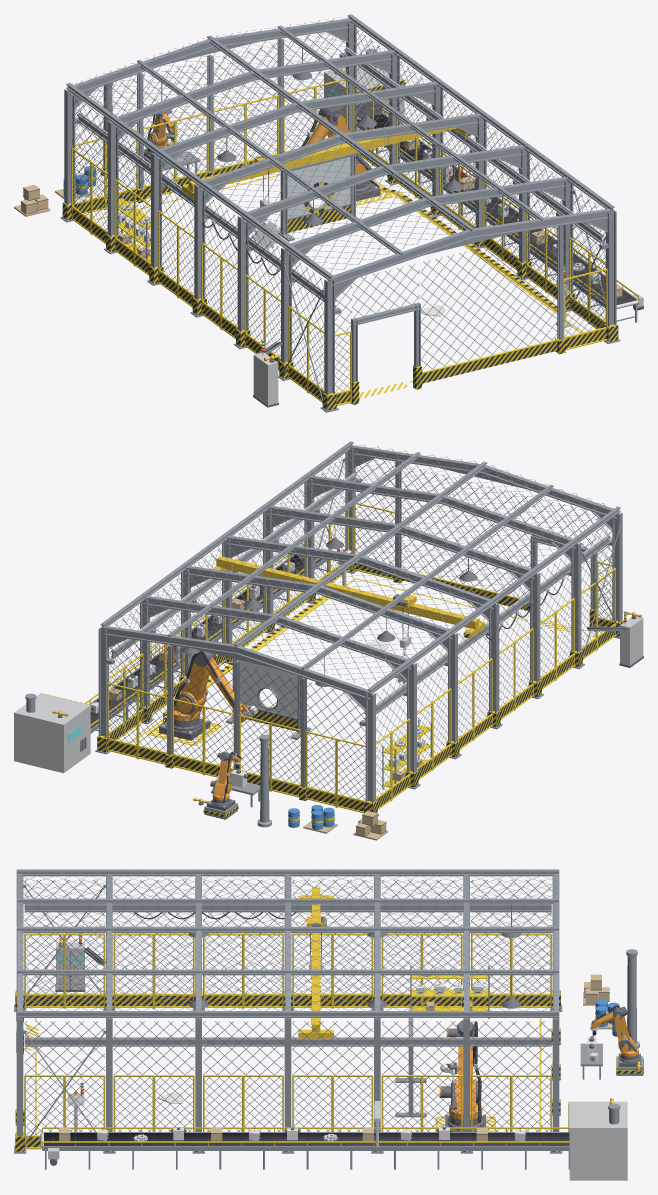
The model's file is RoboFactoryCage.fbx.
The picture shows the model from 3 angles, top to bottom: view 1: azimuth 30°, elevation 25°; view 2: azimuth 150°, elevation 25°; view 3: azimuth 270°, elevation 25°; orthographic projection. The views are drawn at different scales.
Parts seen in each view (by area): view 1: RoboSteel, RoboMesh, RoboFence, RoboHazardYellow, RoboHazardBlack, RoboJoints, RoboCables, RoboPanels, RoboCrane, RoboScreenPanel, RoboChrome, RoboCrates (+2 smaller); view 2: RoboSteel, RoboMesh, RoboFence, RoboHazardYellow, RoboPanels, RoboHazardBlack, RoboJoints, RoboCrane, RoboCables, RoboArm, RoboScreenPanel, RoboChrome (+3 smaller); view 3: RoboSteel, RoboMesh, RoboFence, RoboPanels, RoboCables, RoboHazardYellow, RoboHazardBlack, RoboJoints, RoboCrane, RoboArm, RoboChrome, RoboParts (+1 smaller).
Part boxes in pixels (x1,y1,x2,y2): RoboSteel: (60, 14, 639, 412); RoboMesh: (72, 16, 610, 392); RoboFence: (71, 79, 639, 405); RoboHazardYellow: (63, 80, 617, 409); RoboHazardBlack: (62, 80, 618, 410); RoboJoints: (20, 72, 643, 407); RoboCables: (145, 108, 635, 352); RoboPanels: (253, 65, 643, 405); RoboCrane: (182, 115, 465, 199); RoboScreenPanel: (287, 157, 350, 218); RoboChrome: (62, 47, 638, 410); RoboCrates: (14, 138, 622, 297); RoboSteel: (25, 441, 624, 827); RoboMesh: (106, 442, 616, 799); RoboFence: (84, 502, 615, 813); RoboHazardYellow: (41, 551, 623, 823); RoboPanels: (14, 549, 643, 773); RoboHazardBlack: (65, 563, 623, 817); RoboJoints: (58, 538, 643, 836); RoboCrane: (212, 556, 484, 638); RoboCables: (90, 555, 625, 802); RoboArm: (174, 657, 250, 800); RoboScreenPanel: (238, 659, 297, 717); RoboChrome: (95, 472, 625, 807); RoboSteel: (14, 869, 643, 1169); RoboMesh: (20, 870, 555, 1135); RoboFence: (24, 933, 569, 1149); RoboPanels: (48, 943, 627, 1180); RoboCables: (44, 912, 632, 1145); RoboHazardYellow: (15, 896, 643, 1151); RoboHazardBlack: (15, 896, 643, 1151); RoboJoints: (50, 916, 641, 1165); RoboCrane: (300, 887, 331, 1038); RoboArm: (439, 1012, 638, 1119); RoboChrome: (15, 944, 639, 1151); RoboParts: (97, 983, 598, 1141).
Bounding box in the file's own units: 1030 × 378 × 1411.
